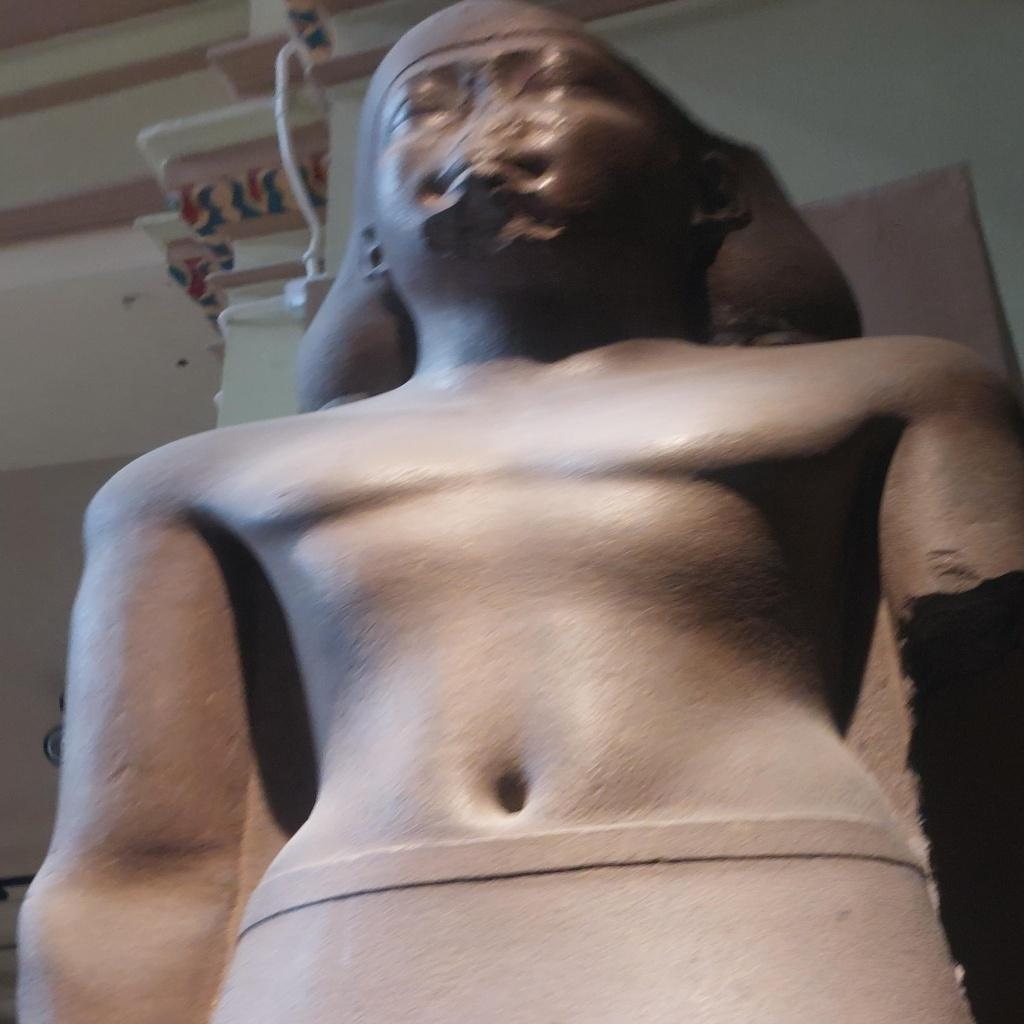Colossal Statue of Hormoheb: (14, 5, 1016, 1019)
